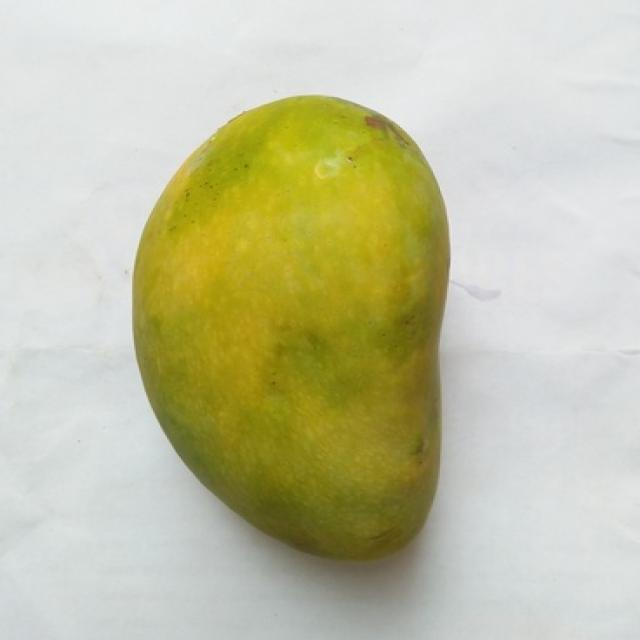Mango: (134, 97, 449, 560)
